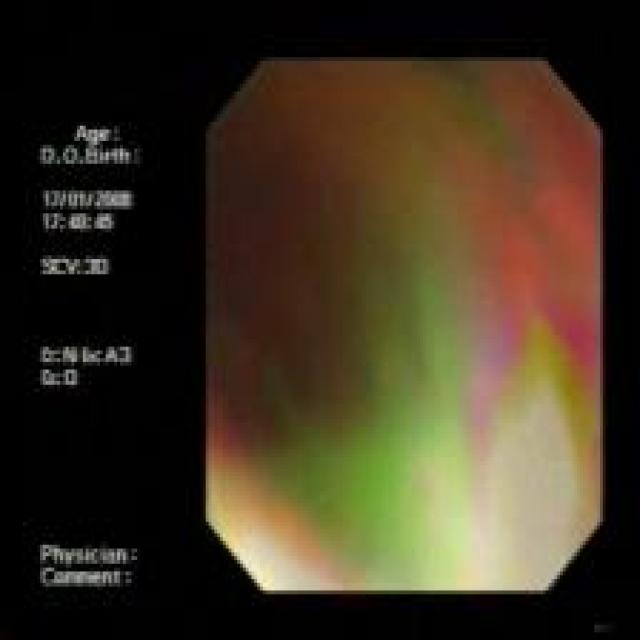color misalignment: (207, 58, 602, 591), (38, 119, 148, 597)
